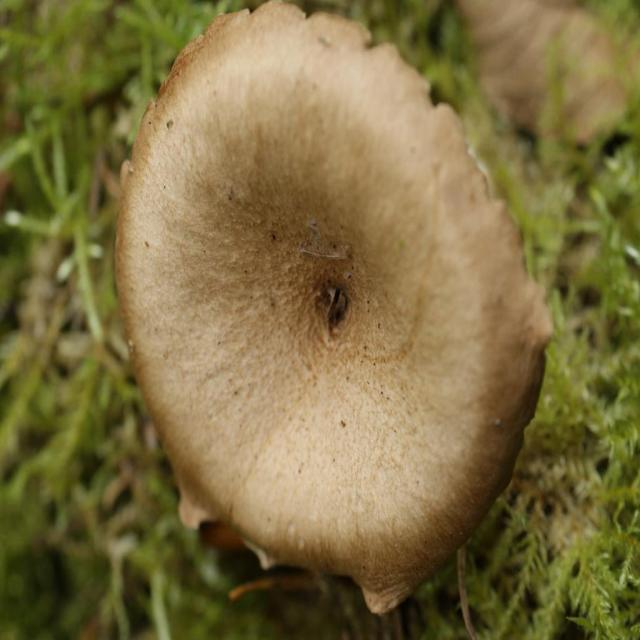Clitocybe maxima: (114, 0, 551, 611)
